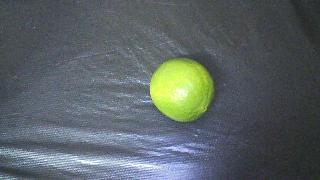LOCAL: (150, 58, 214, 122)
